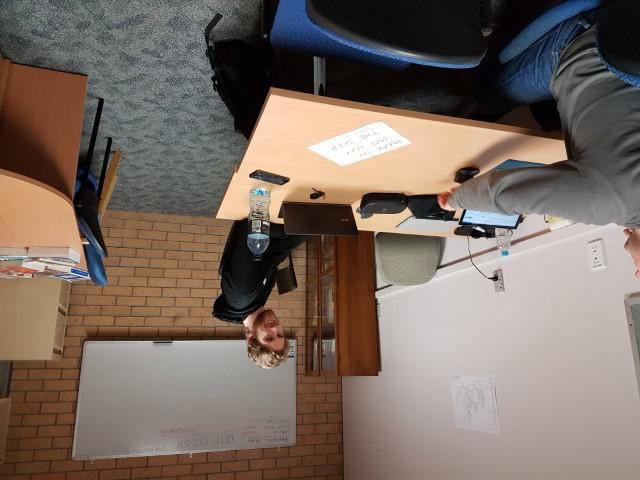key: (311, 186, 327, 199)
